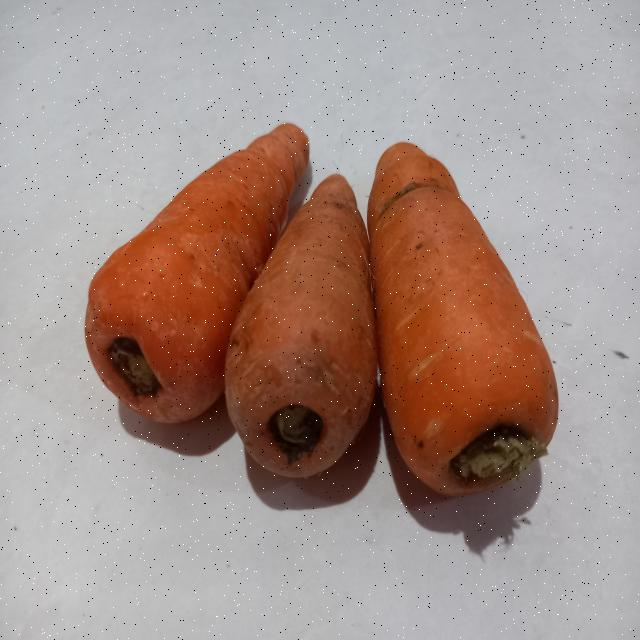carrot: (85, 123, 309, 422), (368, 143, 558, 495), (225, 175, 378, 477)
